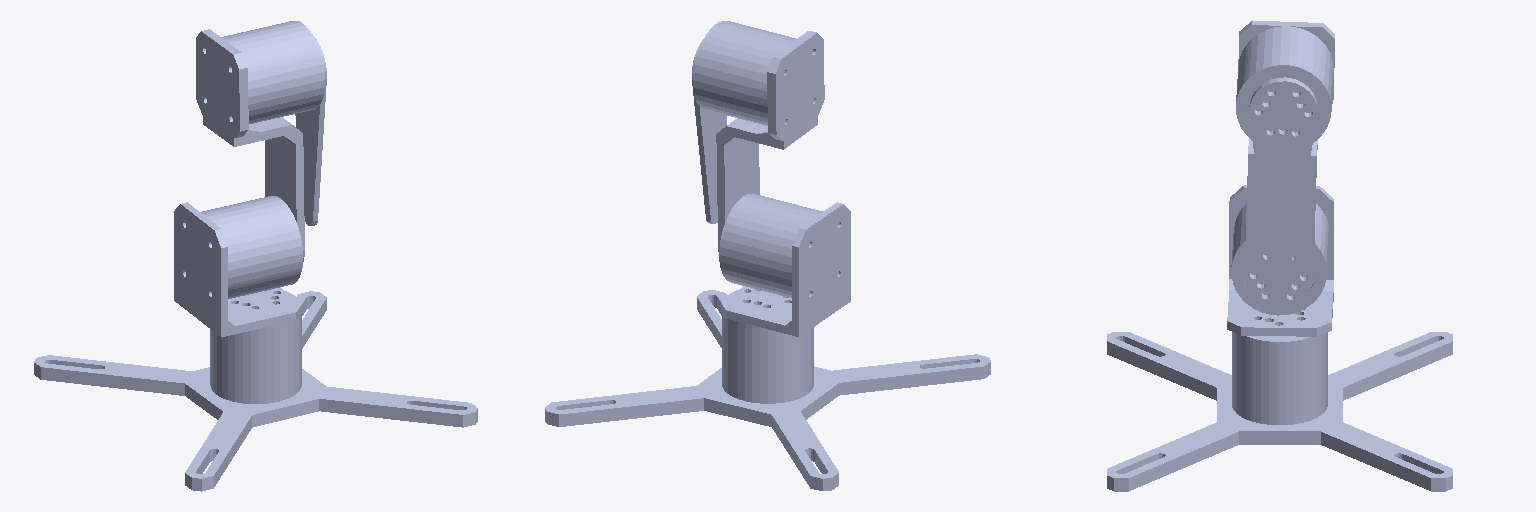
The robot description file, URDF, robot "三自由机械臂":
<?xml version="1.0" encoding="utf-8"?>
<!-- This URDF was automatically created by SolidWorks to URDF Exporter! Originally created by Stephen Brawner (brawner@gmail.com) 
     Commit Version: 1.6.0-4-g7f85cfe  Build Version: 1.6.7995.38578
     For more information, please see http://wiki.ros.org/sw_urdf_exporter -->
<robot
  name="三自由机械臂">
  <link
    name="base_link">
    <inertial>
      <origin
        xyz="1.648E-17 0 0.018965"
        rpy="0 0 0" />
      <mass
        value="0.1184" />
      <inertia
        ixx="0.0001069"
        ixy="8.1737E-20"
        ixz="9.2434E-22"
        iyy="0.0001069"
        iyz="-1.758E-23"
        izz="0.00019075" />
    </inertial>
    <visual>
      <origin
        xyz="0 0 0"
        rpy="0 0 0" />
      <geometry>
        <mesh
          filename="package://三自由机械臂/meshes/base_link.STL" />
      </geometry>
      <material
        name="">
        <color
          rgba="0.79216 0.81961 0.93333 1" />
      </material>
    </visual>
    <collision>
      <origin
        xyz="0 0 0"
        rpy="0 0 0" />
      <geometry>
        <mesh
          filename="package://三自由机械臂/meshes/base_link.STL" />
      </geometry>
    </collision>
  </link>
  <link
    name="J1_link">
    <inertial>
      <origin
        xyz="-0.010556 -4.1633E-17 0.029109"
        rpy="0 0 0" />
      <mass
        value="0.093043" />
      <inertia
        ixx="2.9702E-05"
        ixy="4.6057E-21"
        ixz="3.1002E-06"
        iyy="3.1808E-05"
        iyz="1.5704E-21"
        izz="2.9922E-05" />
    </inertial>
    <visual>
      <origin
        xyz="0 0 0"
        rpy="0 0 0" />
      <geometry>
        <mesh
          filename="package://三自由机械臂/meshes/J1_link.STL" />
      </geometry>
      <material
        name="">
        <color
          rgba="0.79216 0.81961 0.93333 1" />
      </material>
    </visual>
    <collision>
      <origin
        xyz="0 0 0"
        rpy="0 0 0" />
      <geometry>
        <mesh
          filename="package://三自由机械臂/meshes/J1_link.STL" />
      </geometry>
    </collision>
  </link>
  <joint
    name="J1"
    type="revolute">
    <origin
      xyz="0 0 0.051"
      rpy="0 0 -0.0271617826143098" />
    <parent
      link="base_link" />
    <child
      link="J1_link" />
    <axis
      xyz="0 0 -1" />
    <limit
      lower="-3"
      upper="3"
      effort="1.2"
      velocity="2" />
  </joint>
  <link
    name="J2_link">
    <inertial>
      <origin
        xyz="4.3993E-15 0.084058 -0.010047"
        rpy="0 0 0" />
      <mass
        value="0.099725" />
      <inertia
        ixx="5.8224E-05"
        ixy="5.294E-22"
        ixz="-4.1293E-21"
        iyy="3.1329E-05"
        iyz="1.2062E-05"
        izz="5.2569E-05" />
    </inertial>
    <visual>
      <origin
        xyz="0 0 0"
        rpy="0 0 0" />
      <geometry>
        <mesh
          filename="package://三自由机械臂/meshes/J2_link.STL" />
      </geometry>
      <material
        name="">
        <color
          rgba="0.79216 0.81961 0.93333 1" />
      </material>
    </visual>
    <collision>
      <origin
        xyz="0 0 0"
        rpy="0 0 0" />
      <geometry>
        <mesh
          filename="package://三自由机械臂/meshes/J2_link.STL" />
      </geometry>
    </collision>
  </link>
  <joint
    name="J2"
    type="revolute">
    <origin
      xyz="0.0145646597277771 0 0.0329999999999919"
      rpy="1.5707963267949 0.0276086495626297 1.5707963267949" />
    <parent
      link="J1_link" />
    <child
      link="J2_link" />
    <axis
      xyz="0 0 -1" />
    <limit
      lower="-2"
      upper="2"
      effort="1.2"
      velocity="2" />
  </joint>
  <link
    name="J3_link">
    <inertial>
      <origin
        xyz="-0.0038563 0.024731 0.0020185"
        rpy="0 0 0" />
      <mass
        value="0.0075405" />
      <inertia
        ixx="5.5311E-06"
        ixy="7.0675E-07"
        ixz="-8.0378E-08"
        iyy="5.2084E-07"
        iyz="6.704E-08"
        izz="6.0063E-06" />
    </inertial>
    <visual>
      <origin
        xyz="0 0 0"
        rpy="0 0 0" />
      <geometry>
        <mesh
          filename="package://三自由机械臂/meshes/J3_link.STL" />
      </geometry>
      <material
        name="">
        <color
          rgba="0.79216 0.81961 0.93333 1" />
      </material>
    </visual>
    <collision>
      <origin
        xyz="0 0 0"
        rpy="0 0 0" />
      <geometry>
        <mesh
          filename="package://三自由机械臂/meshes/J3_link.STL" />
      </geometry>
    </collision>
  </link>
  <joint
    name="J3"
    type="revolute">
    <origin
      xyz="0 0.0929999999999982 0.0139999999999999"
      rpy="0 0.179853499792478 3.00667972183486" />
    <parent
      link="J2_link" />
    <child
      link="J3_link" />
    <axis
      xyz="0.178885438199983 0 -0.983869910099907" />
    <limit
      lower="-6"
      upper="6"
      effort="1"
      velocity="2" />
  </joint>
</robot>

--- What the picture shows (computed from the rendered views, not written in the file) ---
The picture shows the robot from 3 angles, left to right: view 1: azimuth 30°, elevation 25°; view 2: azimuth 150°, elevation 25°; view 3: azimuth 270°, elevation 25°; orthographic projection.
Model 三自由机械臂 with 4 links and 3 joints (3 revolute), rooted at base_link, posed every joint at zero.
Links seen in each view (by area): view 1: base_link, J2_link, J1_link, J3_link; view 2: base_link, J2_link, J1_link, J3_link; view 3: base_link, J2_link, J3_link, J1_link.
Boxes of the visible links, x1=… form: base_link: x1=34, y1=291, x2=477, y2=491; J2_link: x1=196, y1=21, x2=324, y2=261; J1_link: x1=174, y1=196, x2=302, y2=336; J3_link: x1=295, y1=37, x2=326, y2=225; base_link: x1=545, y1=290, x2=990, y2=490; J2_link: x1=693, y1=21, x2=824, y2=251; J1_link: x1=719, y1=193, x2=850, y2=336; J3_link: x1=692, y1=40, x2=726, y2=223; base_link: x1=1107, y1=332, x2=1452, y2=491; J2_link: x1=1236, y1=20, x2=1334, y2=306; J3_link: x1=1249, y1=77, x2=1317, y2=279; J1_link: x1=1227, y1=185, x2=1333, y2=336.
Size in the robot's own frame: 0.1661 by 0.1661 by 0.2004 metres.
Meshes: 4 distinct files referenced, 4 mesh visuals loaded (4 binary STL).
